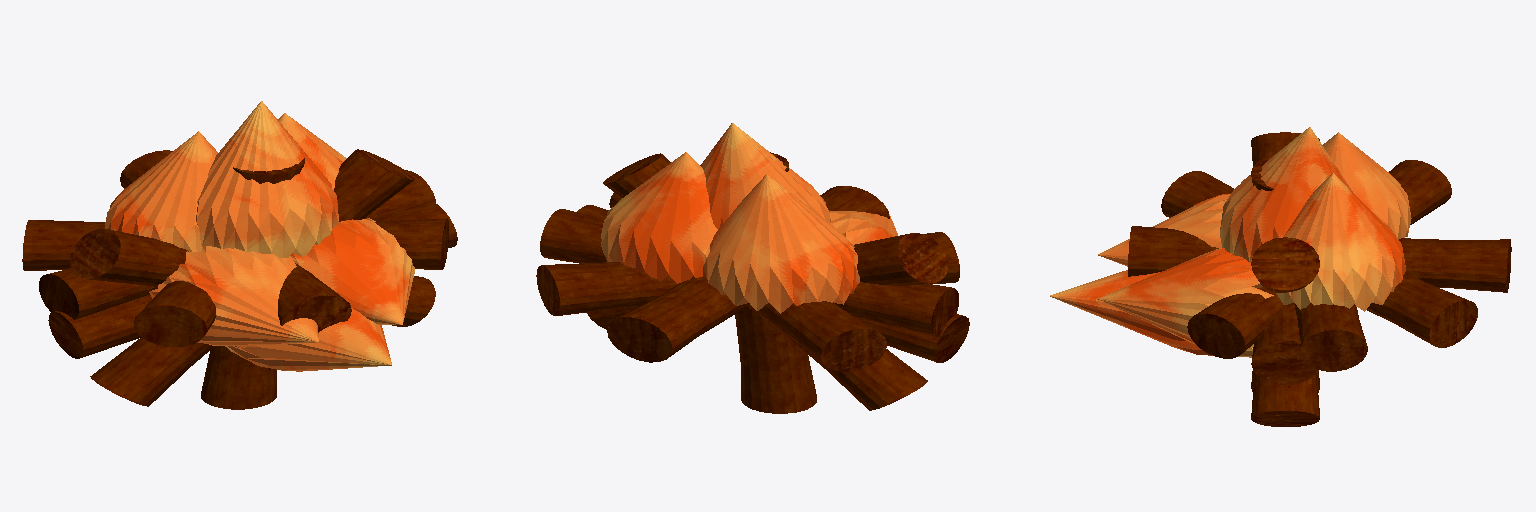
3 views of the same model, side by side, from view 1: azimuth 30°, elevation 25°; view 2: azimuth 150°, elevation 25°; view 3: azimuth 270°, elevation 25° (orthographic).
Parts seen in each view (by area): view 1: polySurface7_lambert1_0, polySurface7_lambert1_0.001; view 2: polySurface7_lambert1_0.001, polySurface7_lambert1_0; view 3: polySurface7_lambert1_0.001, polySurface7_lambert1_0.
Part boxes in pixels (left/top/right/bottom): polySurface7_lambert1_0: left=48, top=149, right=457, bottom=409; polySurface7_lambert1_0.001: left=22, top=101, right=448, bottom=346; polySurface7_lambert1_0.001: left=536, top=123, right=959, bottom=371; polySurface7_lambert1_0: left=577, top=152, right=969, bottom=413; polySurface7_lambert1_0.001: left=1128, top=127, right=1511, bottom=371; polySurface7_lambert1_0: left=1050, top=132, right=1319, bottom=426.
Bounding box in the file's own units: 0.6997 × 0.4907 × 0.7379.
Materials: 2 (1 with a texture image).